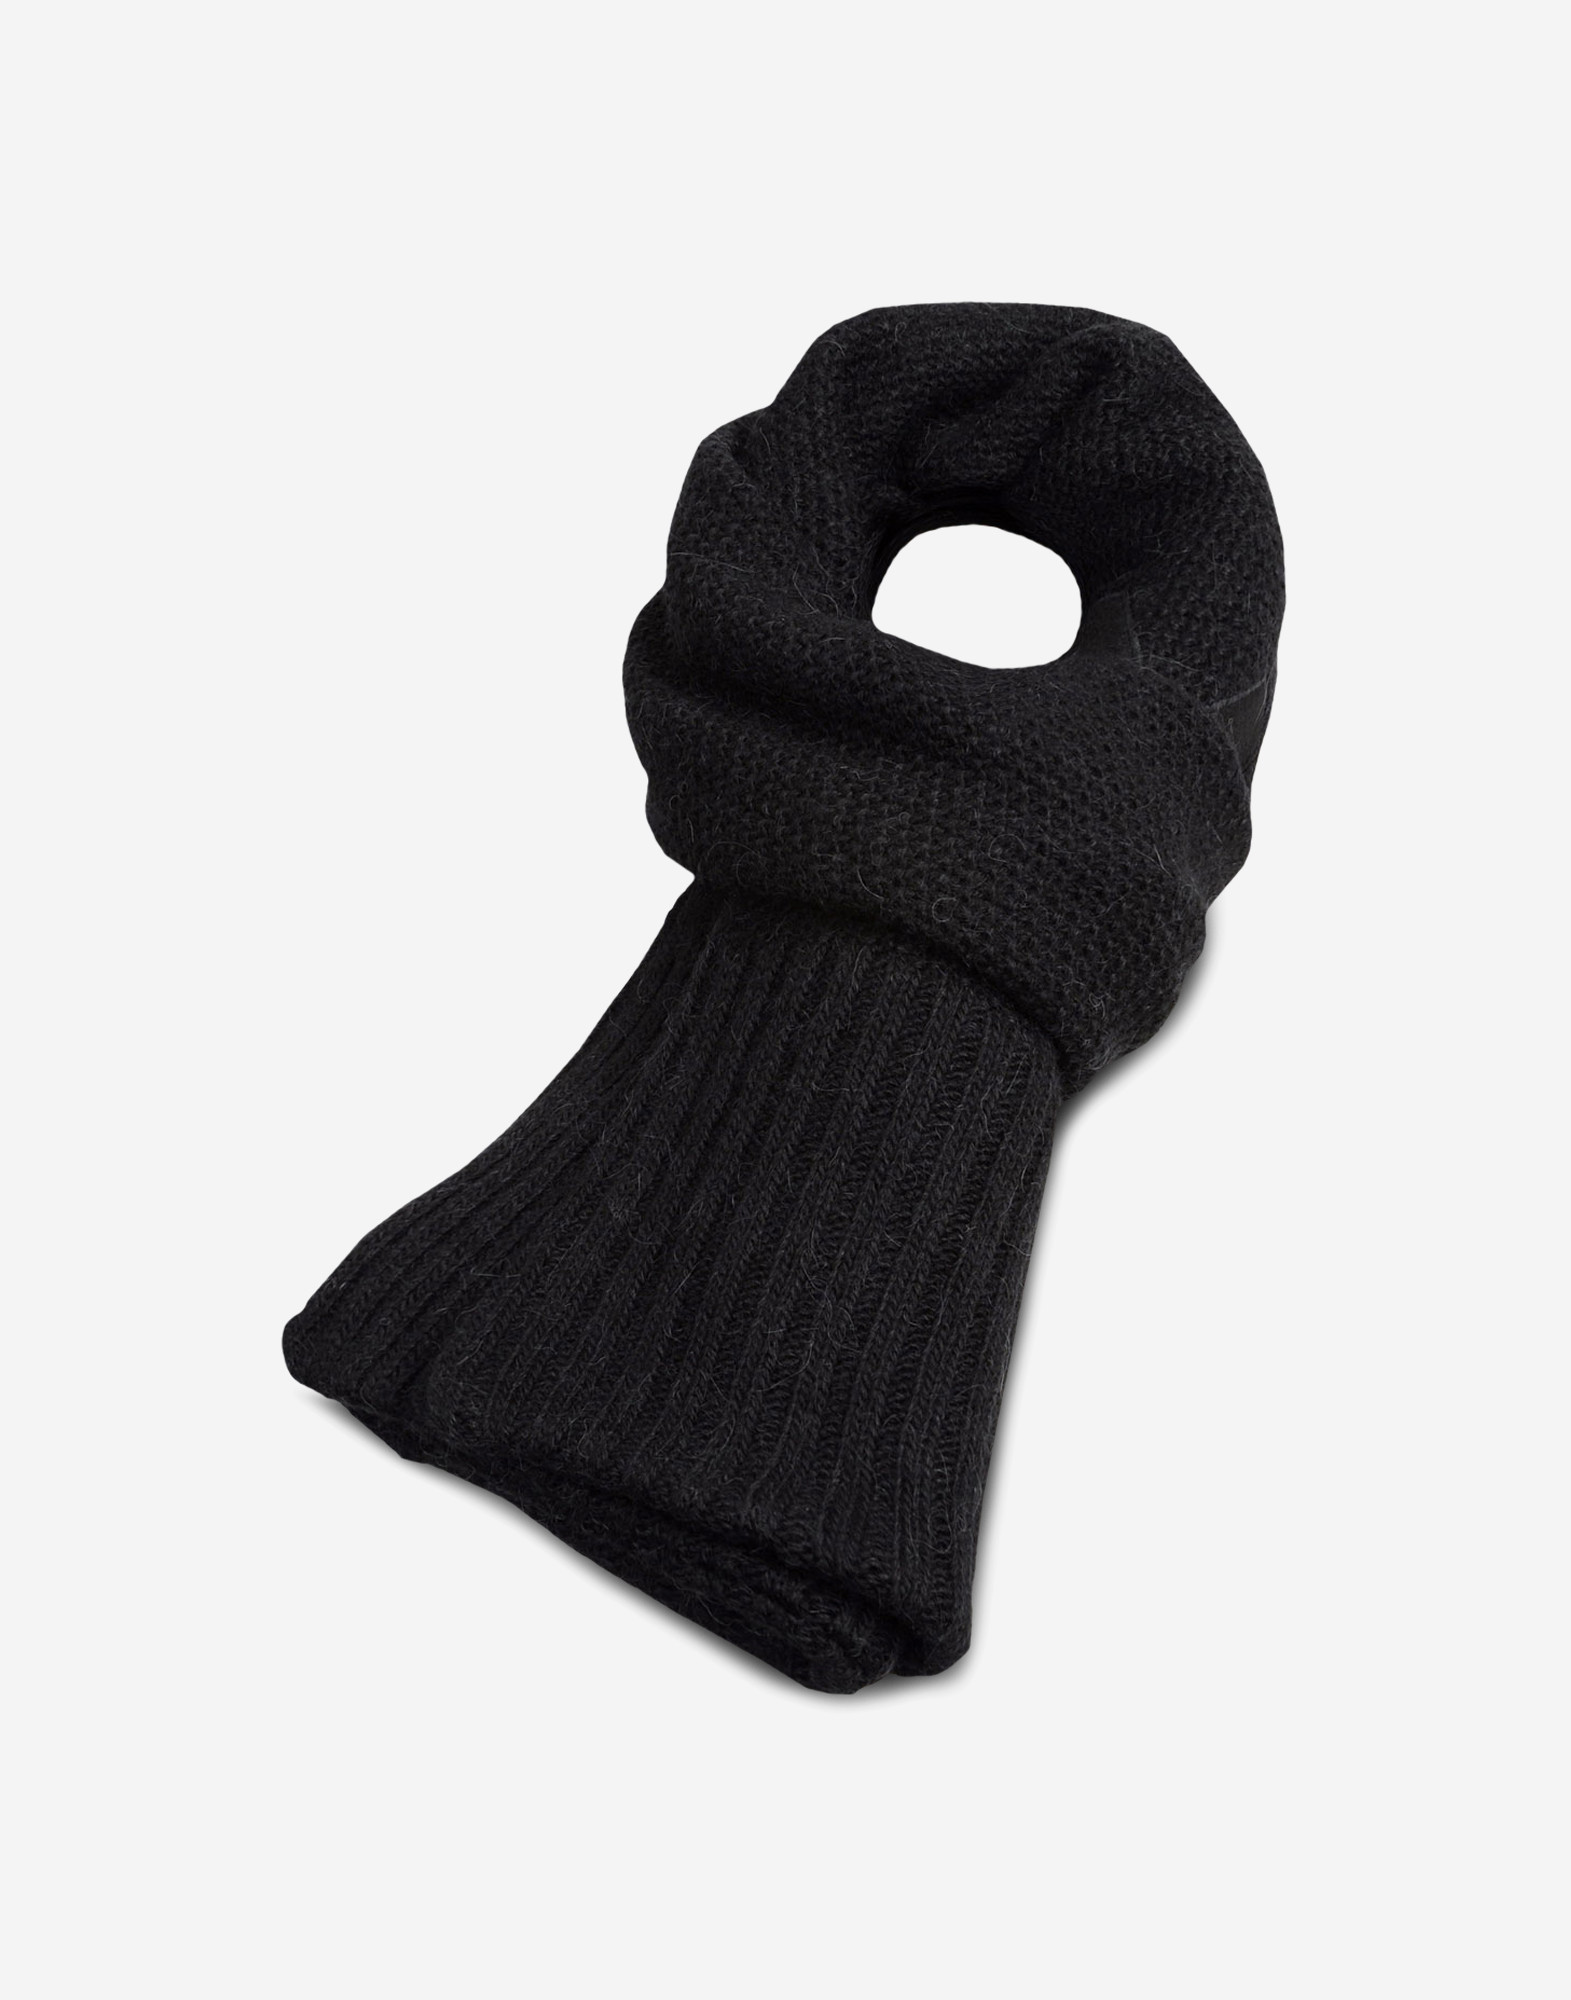flexible: (273, 297, 1293, 1695)
